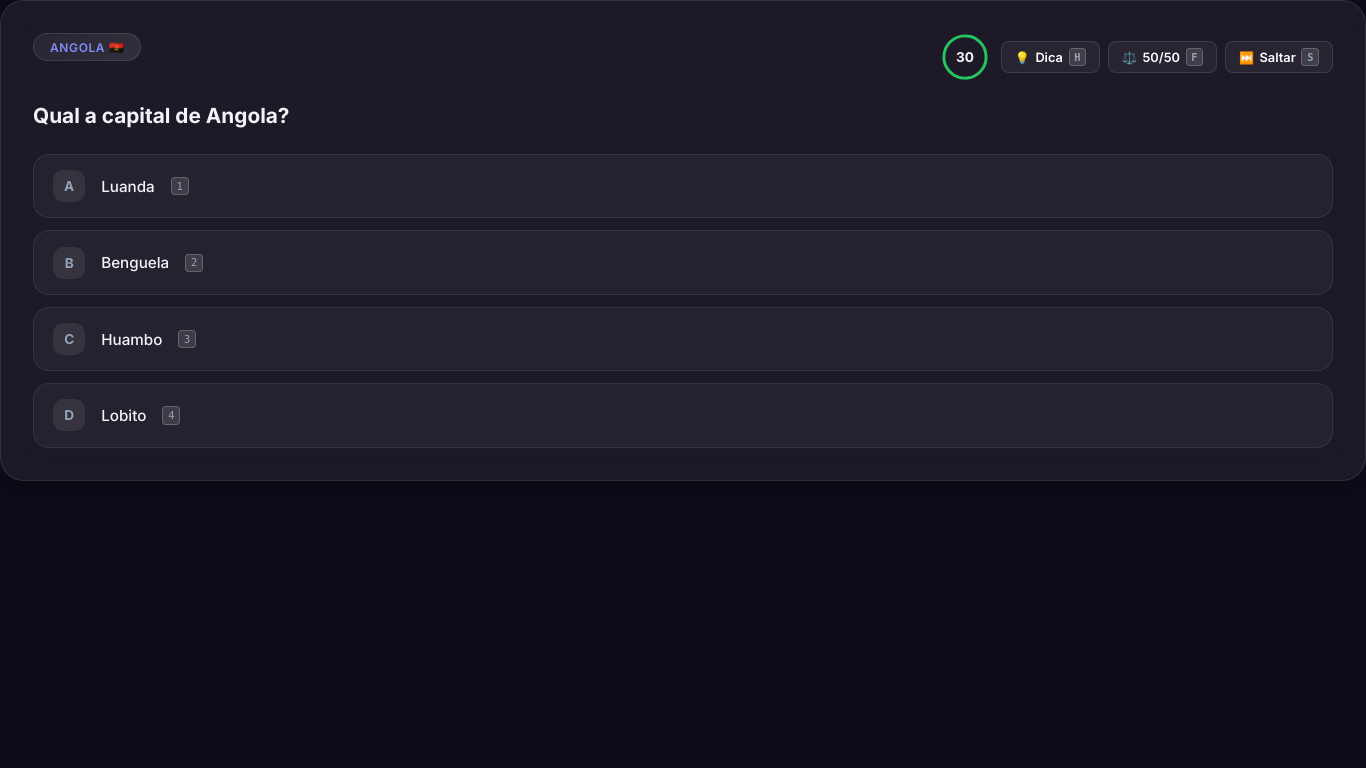
Test: QuestionCard › disables further clicks after answering
Click the text "Luanda".
click(128, 186)  # box [101,177,155,196]
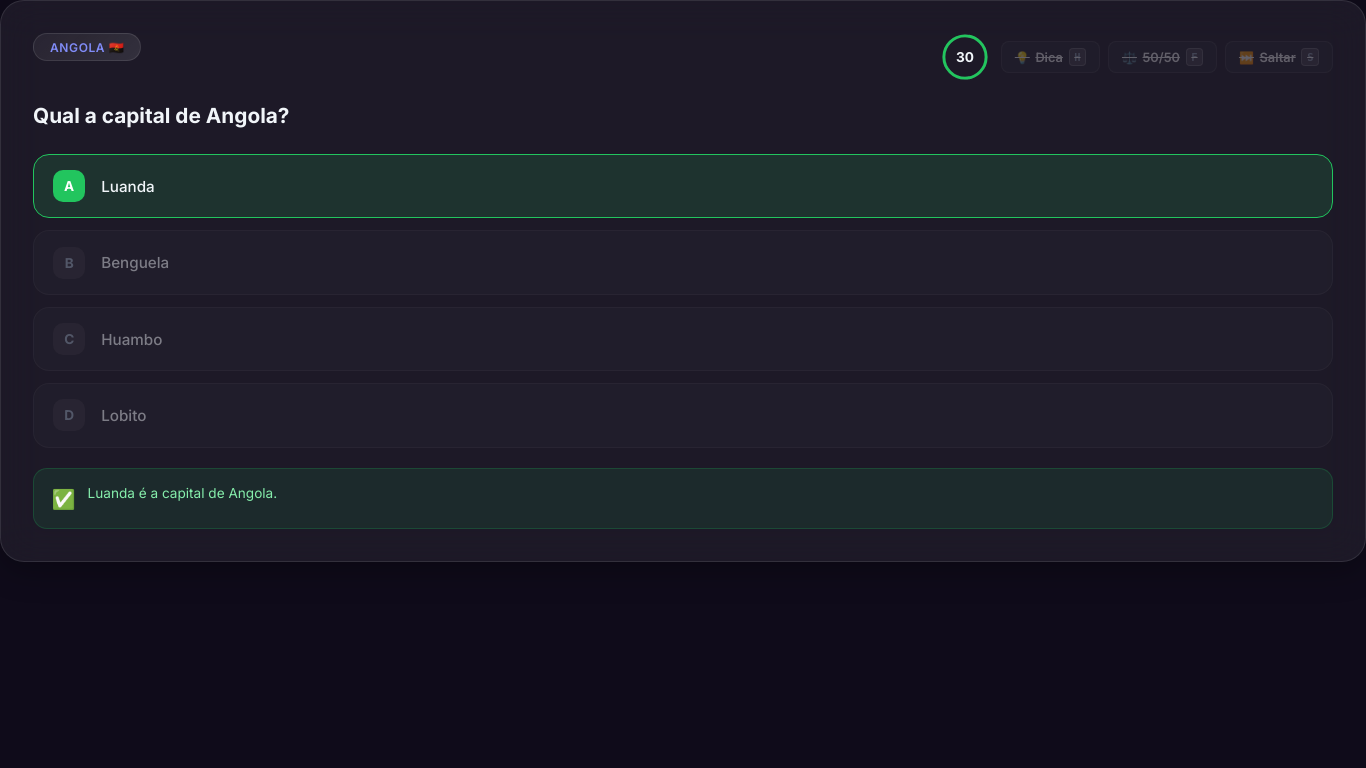
Check: the button "B Benguela" is disabled, box [33,230,1333,295]
